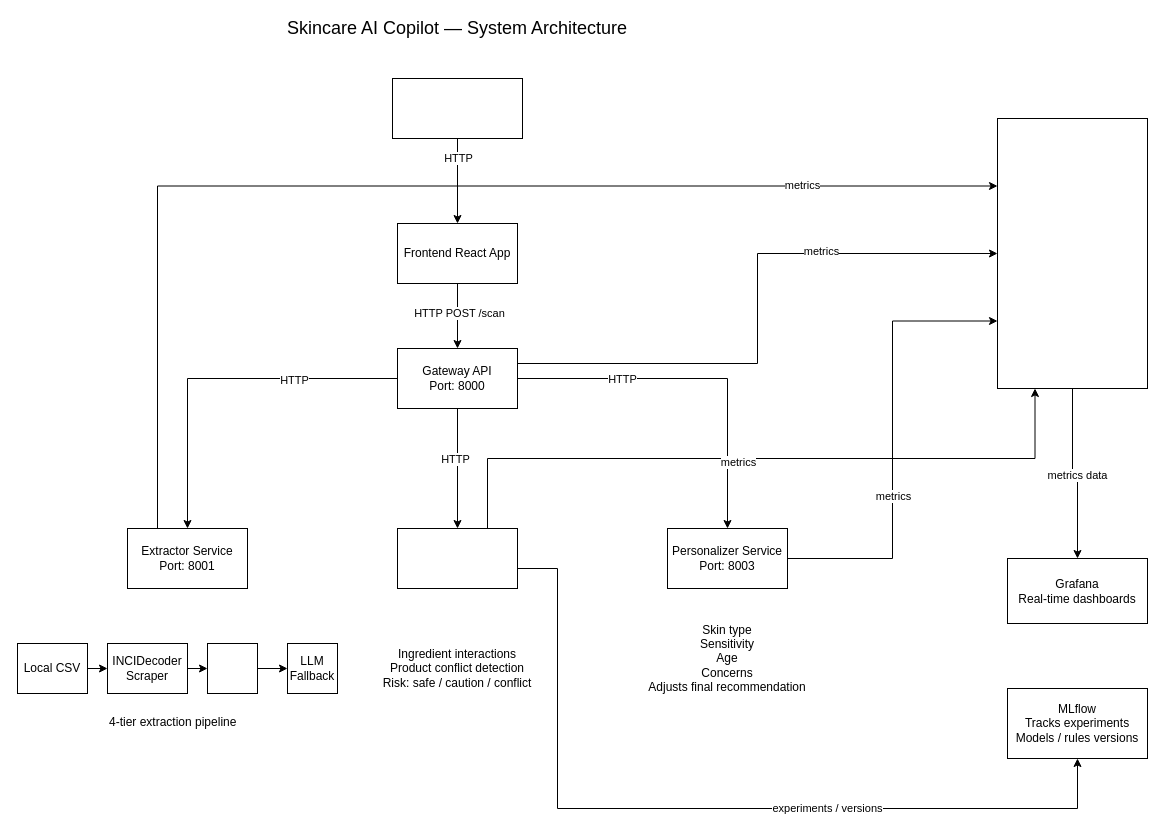
Image size: 1165x834. Some labels were removed from this diagram. Here are the shapes that lost their labels. From the top down, the centre of each, then its label:
(457,108): User / Browser
(1072,253): Prometheus Collects service metrics
(457,558): Risk Engine / Analyzer Port: 8002
(232,668): OCR
